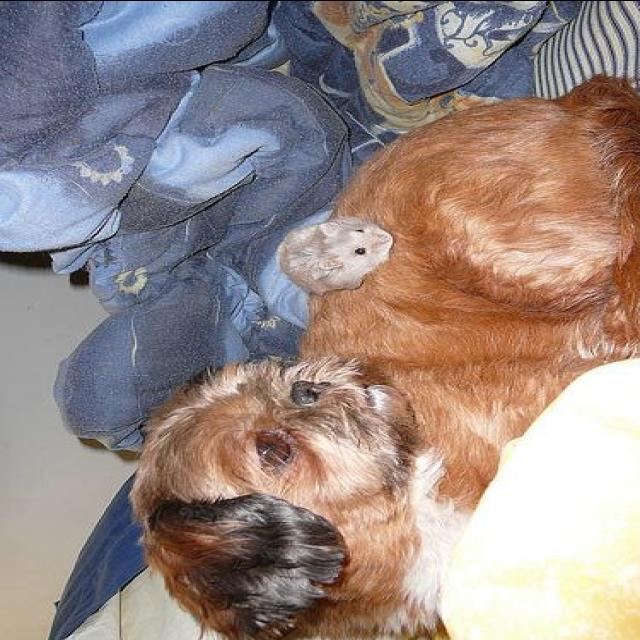shih_tzu: (126, 70, 638, 640)
